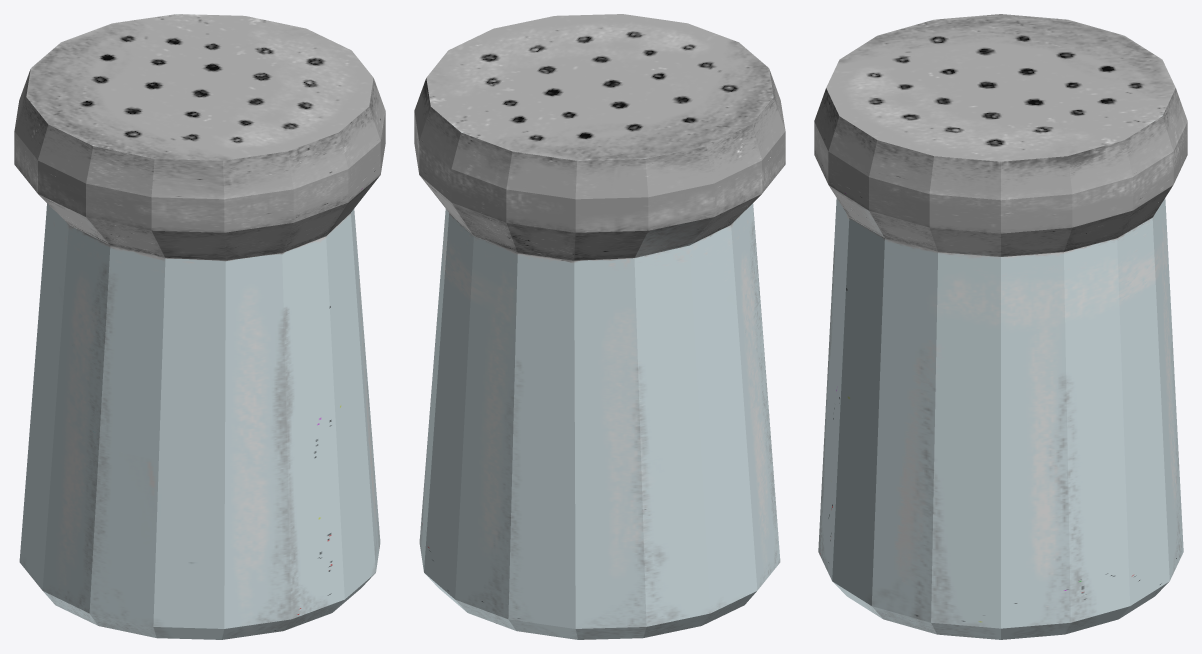
Rendered from salero.fbx.
The picture shows the model from 3 angles, left to right: view 1: azimuth 30°, elevation 25°; view 2: azimuth 150°, elevation 25°; view 3: azimuth 270°, elevation 25°; orthographic projection.
Visible parts, largest first — view 1: salero; view 2: salero; view 3: salero.
Boxes of the visible parts, x1,y1,x2,y2 form: salero: [14, 14, 385, 639]; salero: [414, 14, 785, 639]; salero: [814, 14, 1187, 639].
Size of the model in its own units: 159 by 226 by 159.
Materials: 1 (1 with a texture image).
